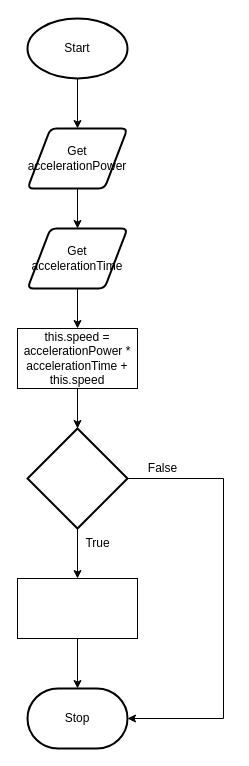
Image size: 249x766. Some labels were removed from this diagram. Each missing label, with the centre of its shape:
"if (this.speed > this.maxspeed)" belongs at [77,478].
"this.speed = this.maxspeed" belongs at [77,608].
